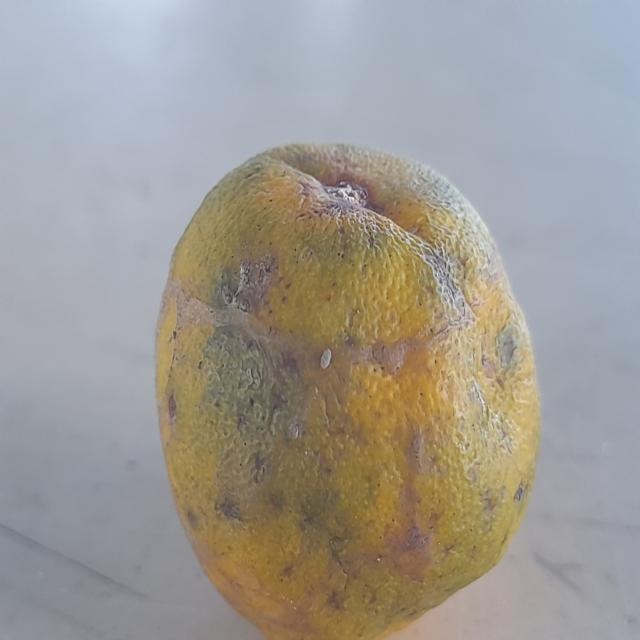black spot: (150, 133, 546, 632)
